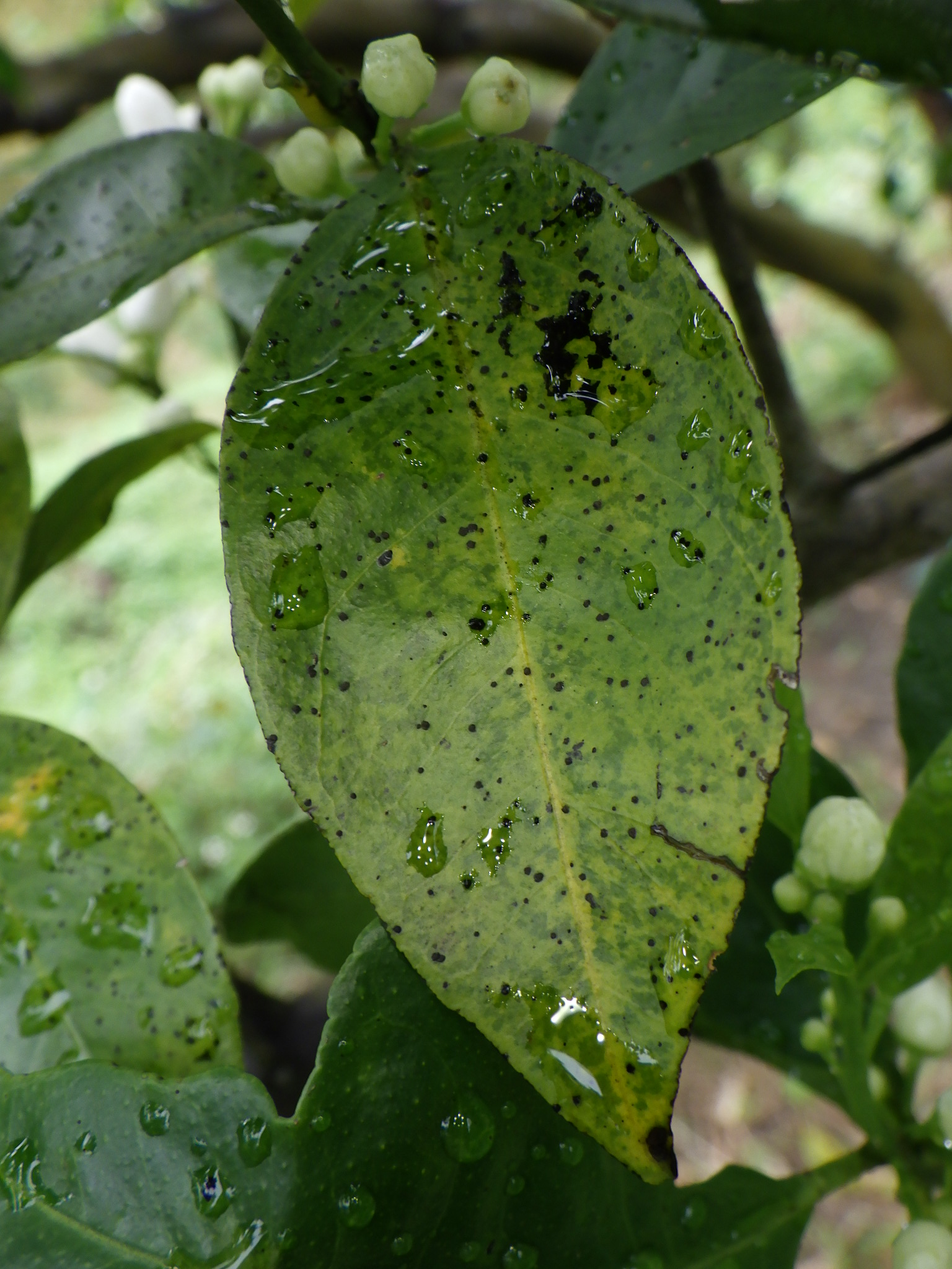Oily_Spot: (220, 138, 800, 1181)
